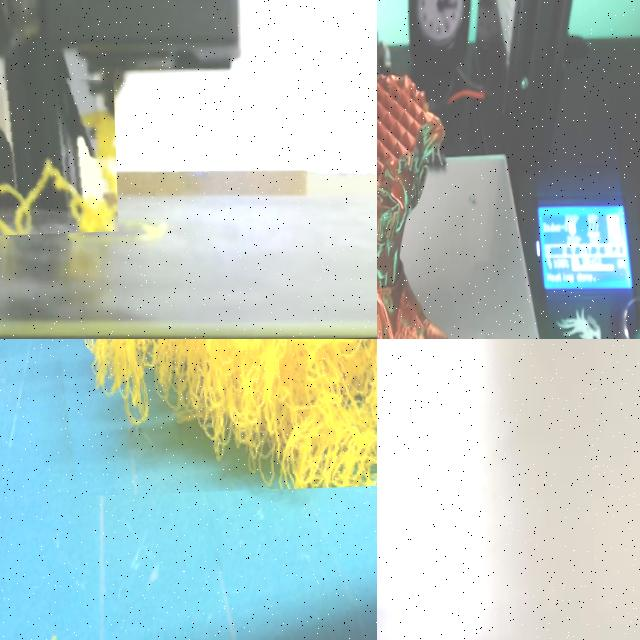spaghetti: (78, 339, 377, 489), (0, 106, 117, 235)
